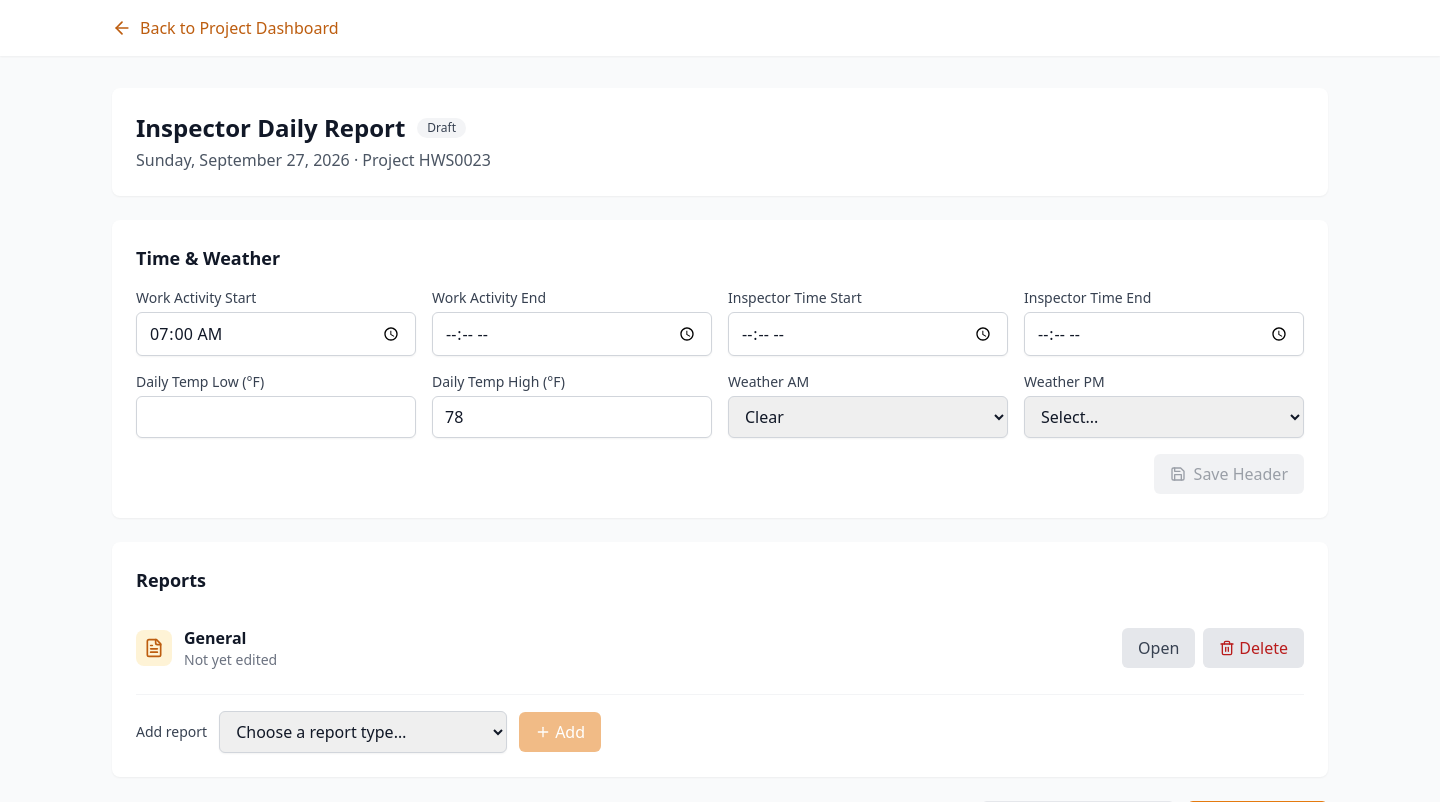
IDRPage — header › goes back to disabled when an edit is undone
Select "Rainy" in the dropdown labelled "Weather AM" at (868,417), box [728,396,1008,438]
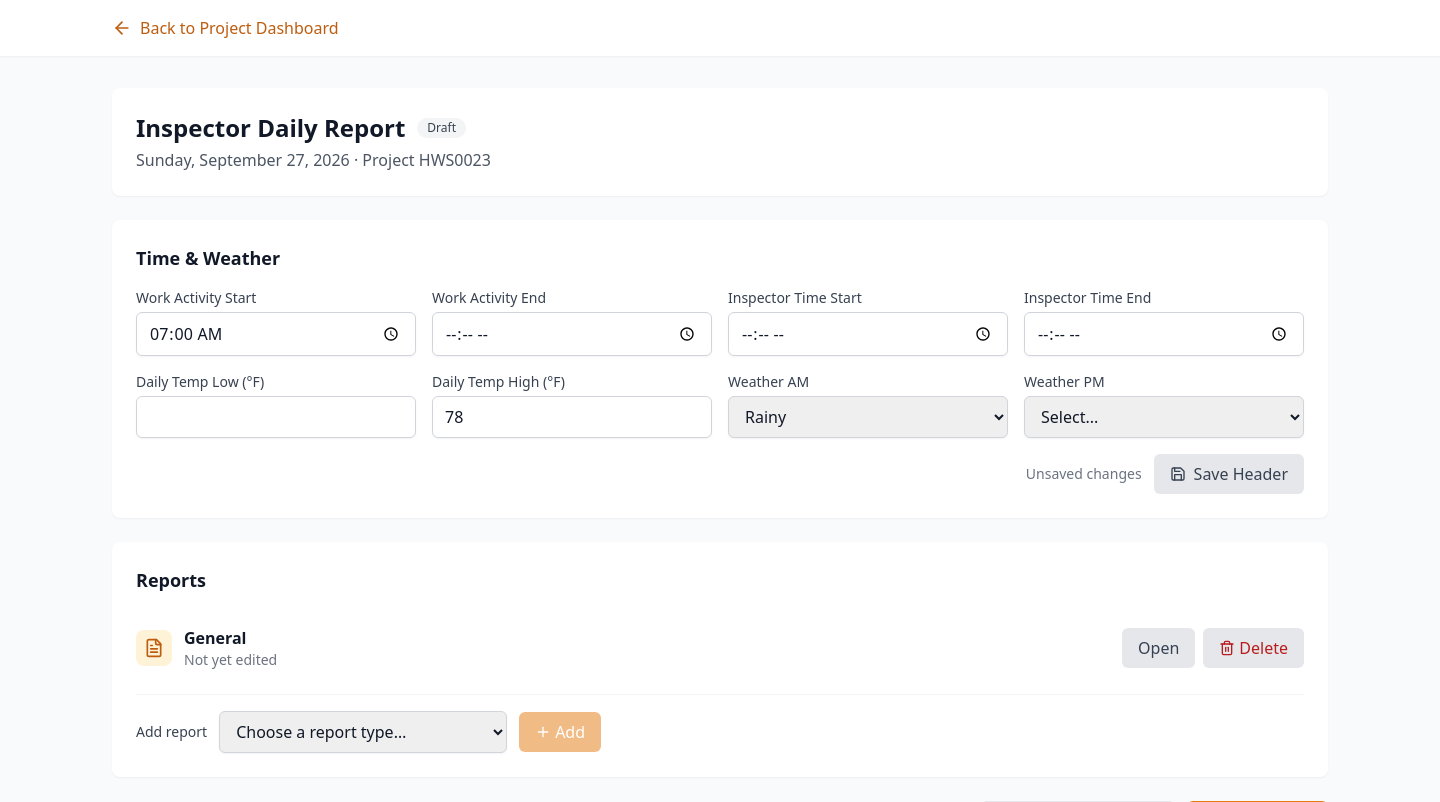
Select "Clear" in the dropdown labelled "Weather AM" at (868,417), box [728,396,1008,438]
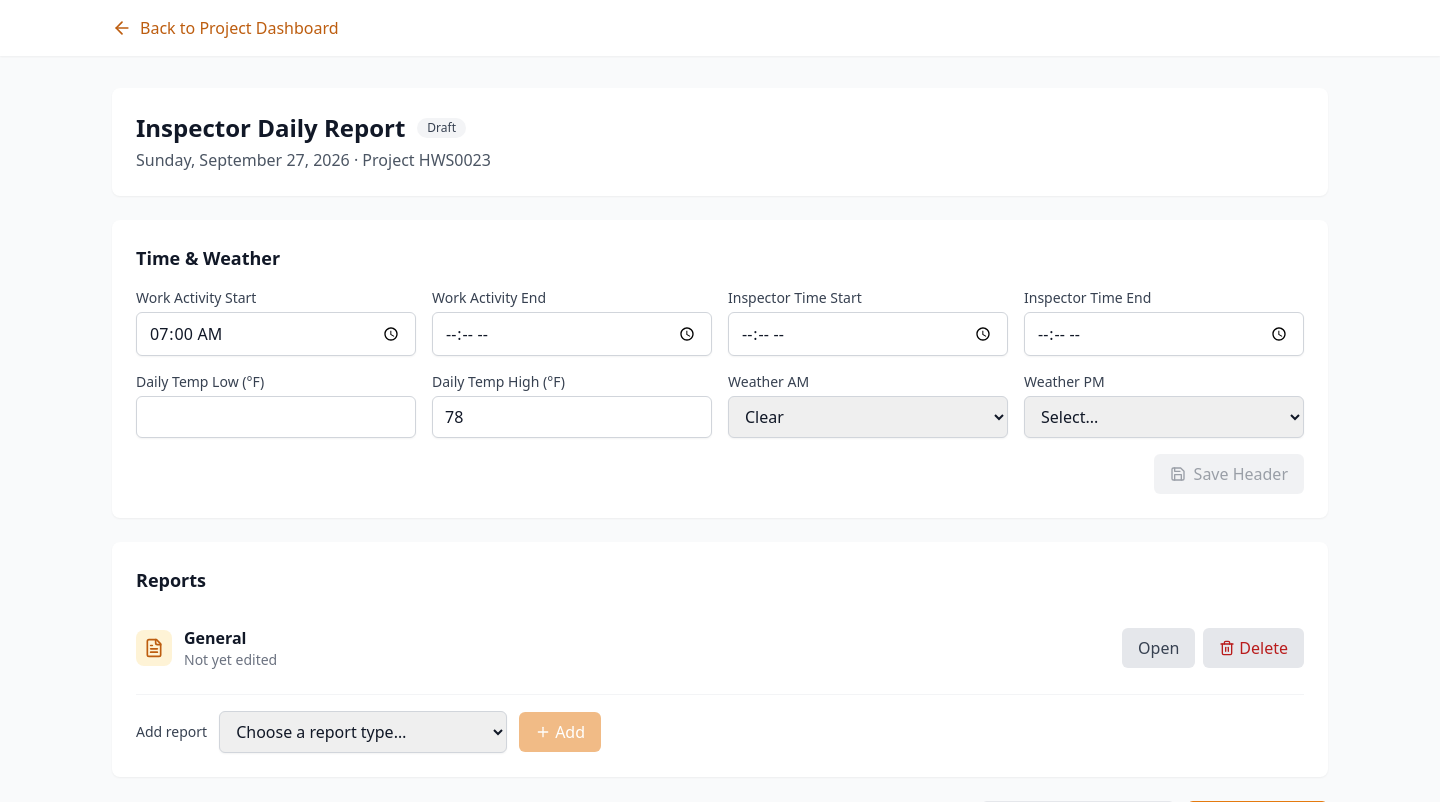
Result: the button "Save Header" is disabled at [1154,454,1304,494]
